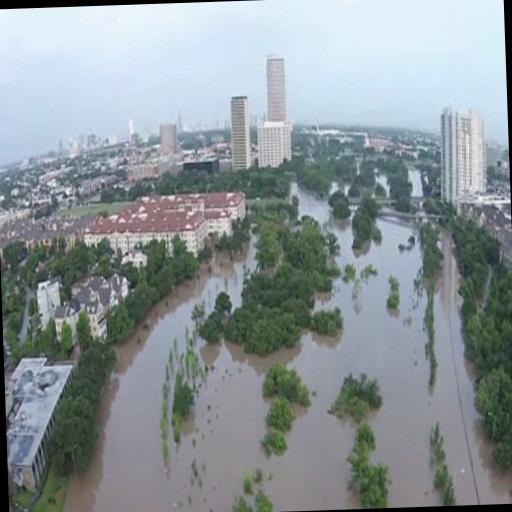flood: (64, 185, 512, 512)
house: (3, 352, 83, 494), (88, 212, 207, 270), (439, 104, 487, 204), (258, 54, 292, 170), (124, 191, 250, 217), (222, 94, 262, 173)
